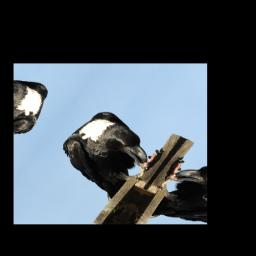Crow: (38, 102, 175, 207)
